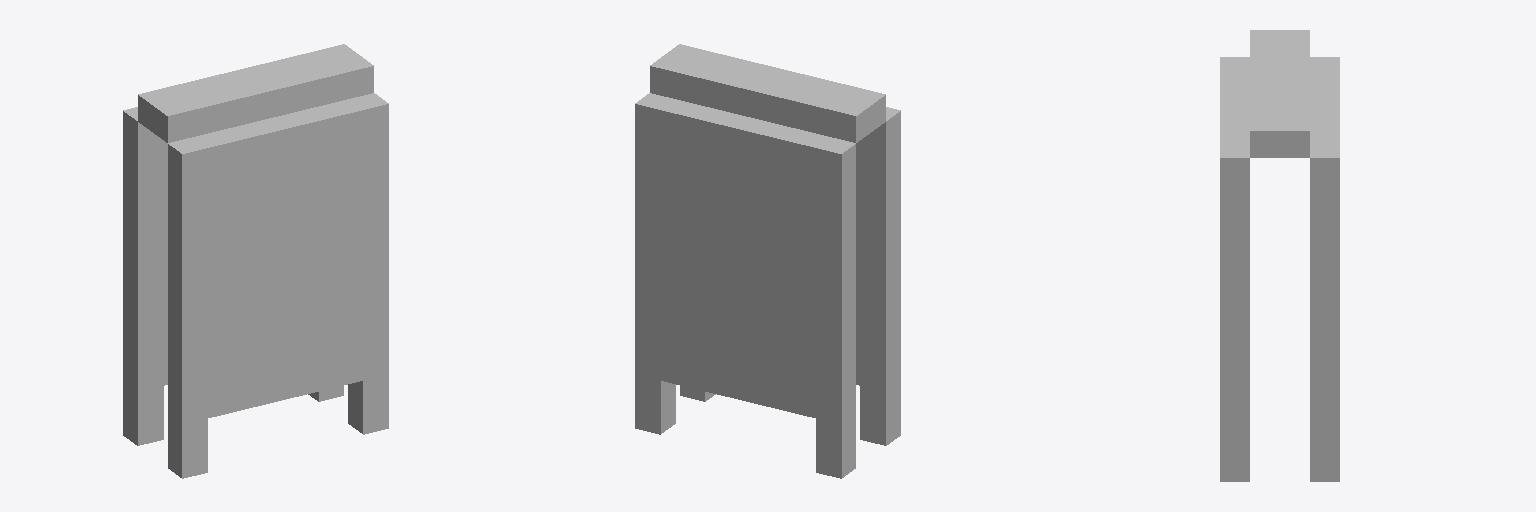
File: Caution Sign.obj
The picture shows the model from 3 angles: view 1: azimuth 30°, elevation 25°; view 2: azimuth 150°, elevation 25°; view 3: azimuth 270°, elevation 25°; orthographic projection.
Visible parts, largest first — view 1: object 1; view 2: object 1; view 3: object 1.
Boxes of the visible parts, <box> form: object 1: <box>123,44,388,478</box>; object 1: <box>635,44,900,478</box>; object 1: <box>1220,30,1339,481</box>.
Size of the model in its own units: 0.8 by 1.3 by 0.4.